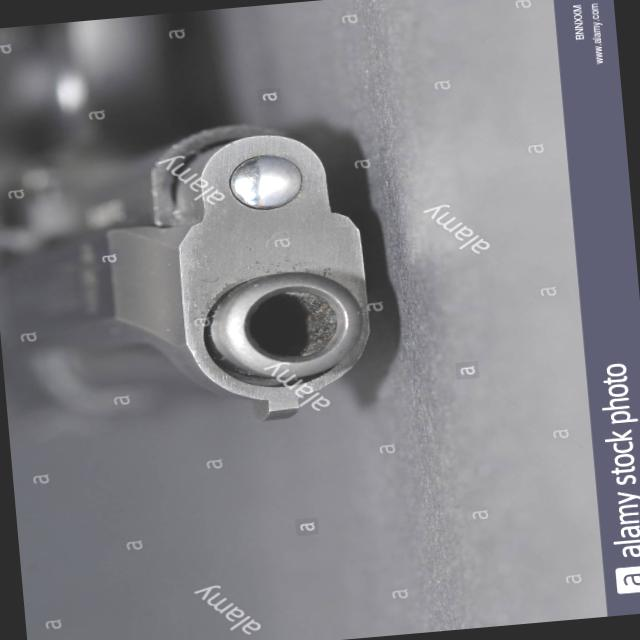handgun: (0, 36, 380, 444)
